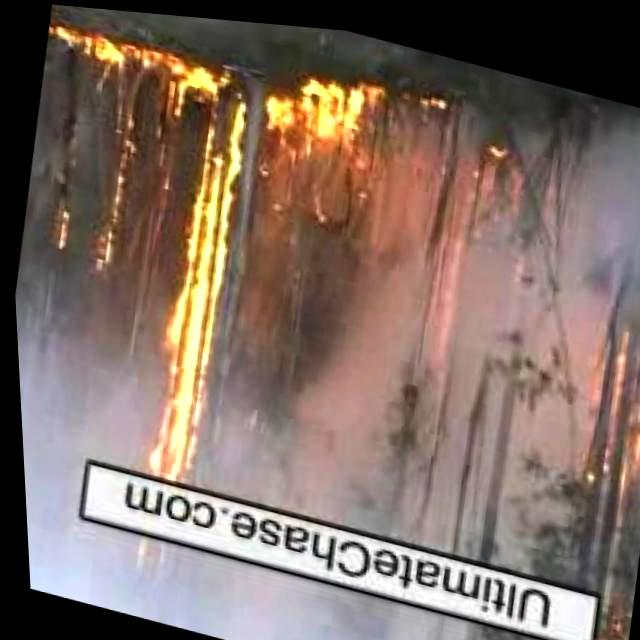fire: (90, 46, 262, 558), (564, 307, 640, 525), (262, 56, 390, 176), (42, 23, 162, 88), (466, 127, 520, 201)
